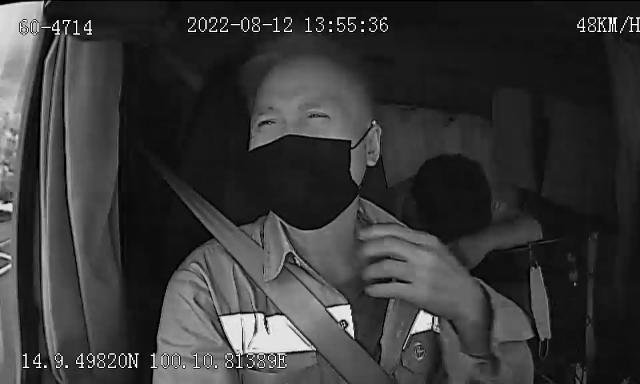SafeDriving: (248, 107, 286, 133), (298, 104, 336, 126)
Seatbelt: (178, 186, 394, 384)
